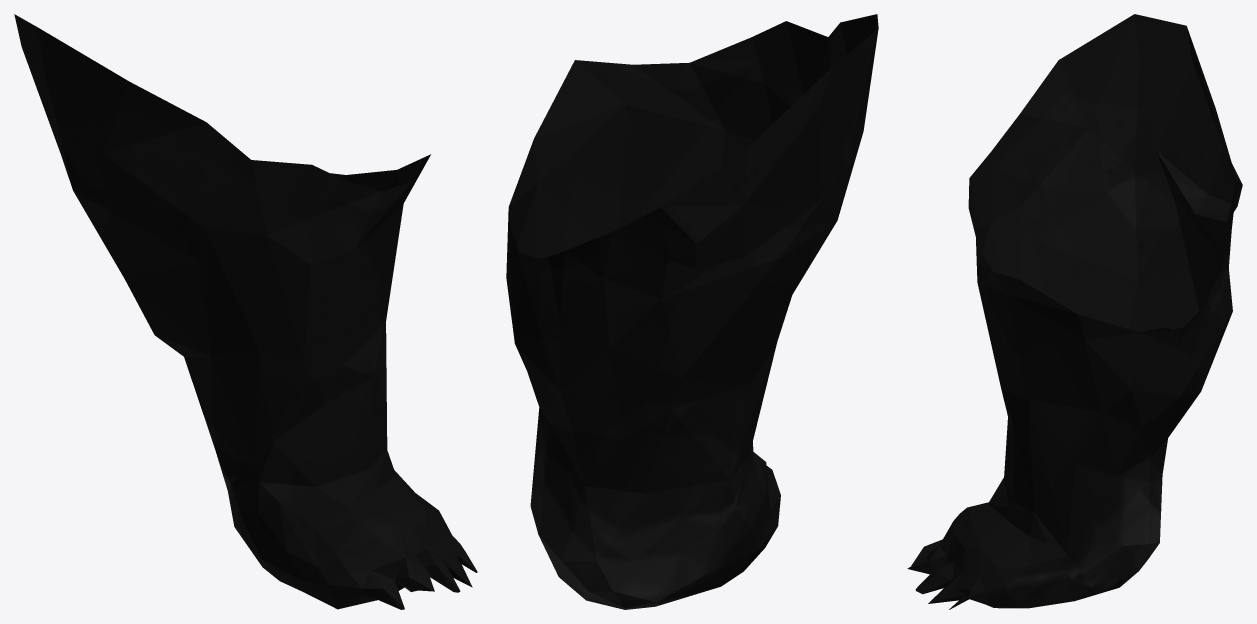
Rendered from PataDelanteraDP.obj.
3 views of the same model, side by side, from view 1: azimuth 30°, elevation 25°; view 2: azimuth 150°, elevation 25°; view 3: azimuth 270°, elevation 25° (orthographic). The views are drawn at different scales.
Visible parts, largest first — view 1: panda.004; view 2: panda.004; view 3: panda.004.
Part boxes in pixels (box(x1,y1,x2,y2)): panda.004: box(14, 14, 477, 609); panda.004: box(506, 14, 878, 609); panda.004: box(907, 14, 1242, 609).
Bounding box in the file's own units: 0.5671 × 0.9223 × 0.5923.
